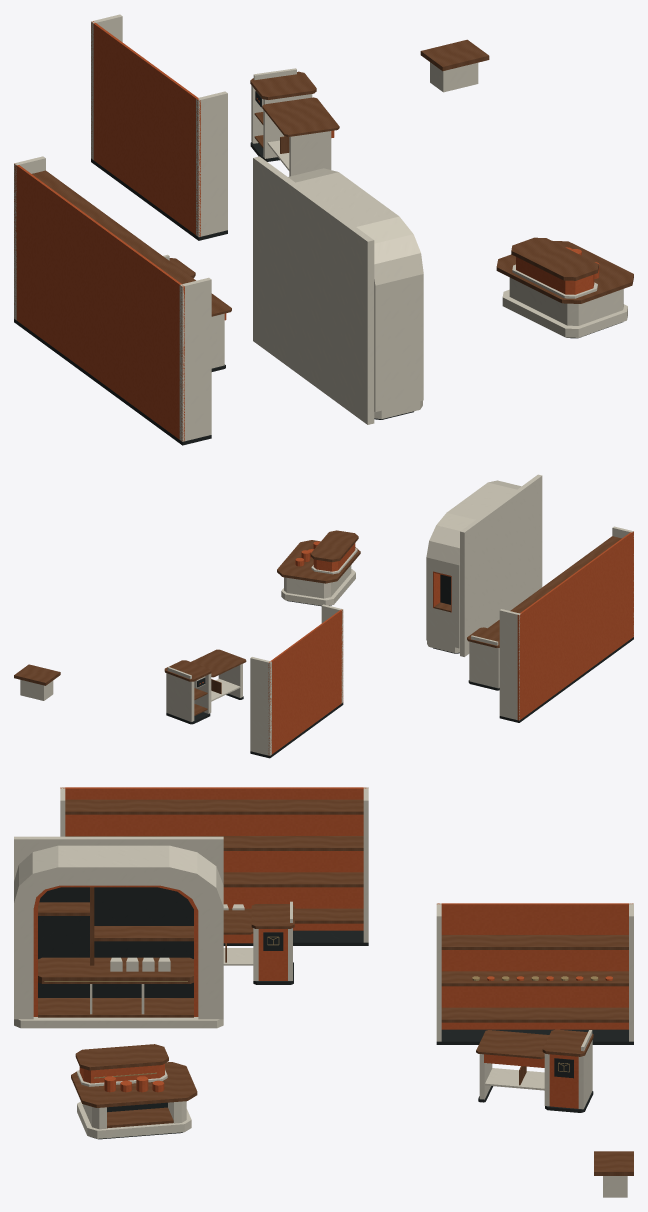
File: SHOP_D09_P100_F314__fitout.glb
The picture shows the model from 3 angles, top to bottom: view 1: azimuth 30°, elevation 25°; view 2: azimuth 150°, elevation 25°; view 3: azimuth 270°, elevation 25°; orthographic projection. The views are drawn at different scales.
Visible parts, largest first — view 1: SHOP_D09_P100_F314__fitout__ivory_enamel, SHOP_D09_P100_F314__fitout__retail_terracotta_enamel, SHOP_D09_P100_F314__fitout__warm_walnut, SHOP_D09_P100_F314__fitout__dark_rubber; view 2: SHOP_D09_P100_F314__fitout__ivory_enamel, SHOP_D09_P100_F314__fitout__retail_terracotta_enamel, SHOP_D09_P100_F314__fitout__warm_walnut, SHOP_D09_P100_F314__fitout__dark_rubber; view 3: SHOP_D09_P100_F314__fitout__retail_terracotta_enamel, SHOP_D09_P100_F314__fitout__warm_walnut, SHOP_D09_P100_F314__fitout__ivory_enamel, SHOP_D09_P100_F314__fitout__dark_rubber.
Boxes of the visible parts, x1,y1,x2,y2 form: SHOP_D09_P100_F314__fitout__ivory_enamel: (14, 14, 627, 441); SHOP_D09_P100_F314__fitout__retail_terracotta_enamel: (14, 21, 599, 441); SHOP_D09_P100_F314__fitout__warm_walnut: (32, 39, 633, 316); SHOP_D09_P100_F314__fitout__dark_rubber: (14, 91, 622, 445); SHOP_D09_P100_F314__fitout__ivory_enamel: (20, 474, 633, 755); SHOP_D09_P100_F314__fitout__retail_terracotta_enamel: (199, 531, 633, 755); SHOP_D09_P100_F314__fitout__warm_walnut: (14, 530, 621, 715); SHOP_D09_P100_F314__fitout__dark_rubber: (166, 574, 633, 758); SHOP_D09_P100_F314__fitout__retail_terracotta_enamel: (33, 787, 632, 1108); SHOP_D09_P100_F314__fitout__warm_walnut: (38, 799, 633, 1175); SHOP_D09_P100_F314__fitout__ivory_enamel: (14, 787, 633, 1197); SHOP_D09_P100_F314__fitout__dark_rubber: (38, 887, 633, 1139).
Bounding box in the file's own units: 10.25 × 3 × 10.05.
Materials: 5 (5 with a texture image).
